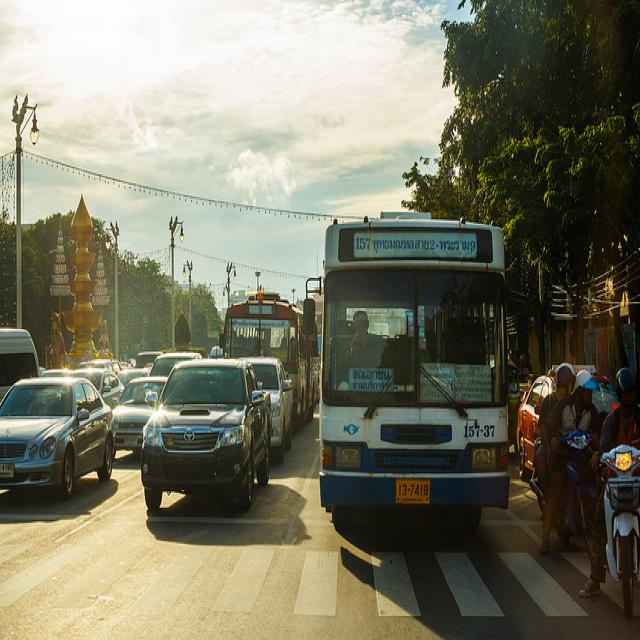motor: (532, 432, 595, 558), (602, 444, 639, 620)
